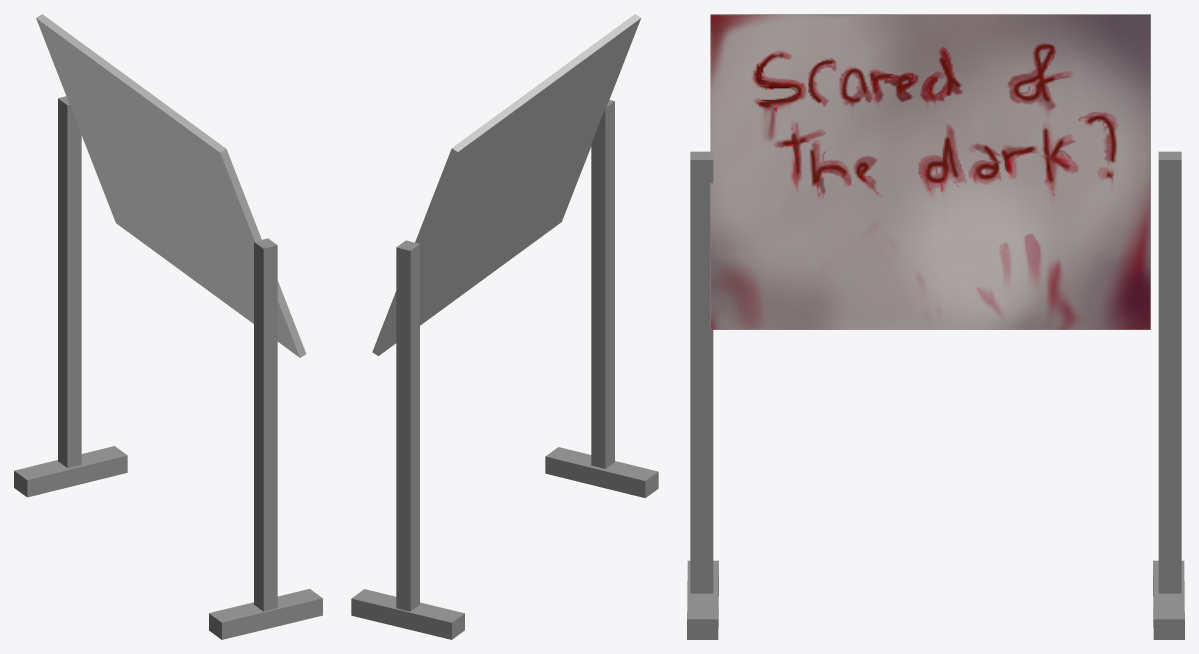
File: Board.glb
3 views of the same model, side by side, from view 1: azimuth 30°, elevation 25°; view 2: azimuth 150°, elevation 25°; view 3: azimuth 270°, elevation 25° (orthographic). The views are drawn at different scales.
Visible parts, largest first — view 1: Cube, Cube.001; view 2: Cube, Cube.001; view 3: Cube, Cube.001.
Boxes of the visible parts, x1,y1,x2,y2 form: Cube: (36,14,306,357); Cube.001: (14,96,322,639); Cube: (372,14,640,355); Cube.001: (351,100,658,639); Cube: (710,14,1150,329); Cube.001: (687,151,1184,639).
Bounding box in the file's own units: 0.9409 × 4.29 × 3.36.
2 materials, 1 textured.
